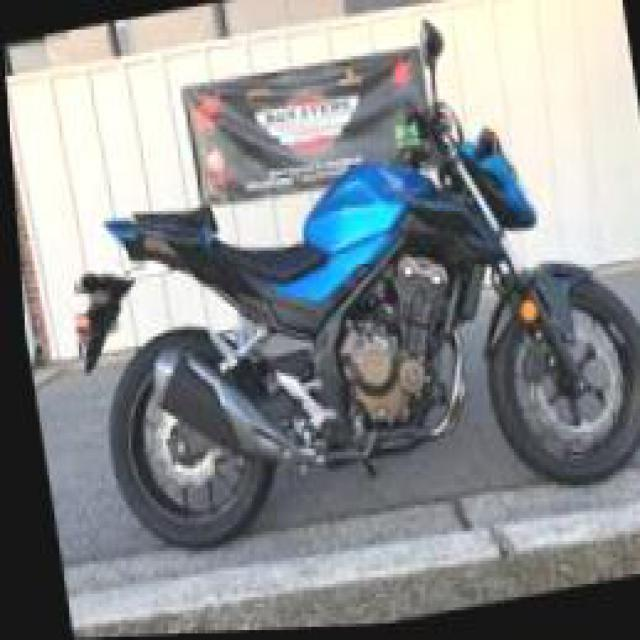CB500F: (45, 105, 638, 578)
